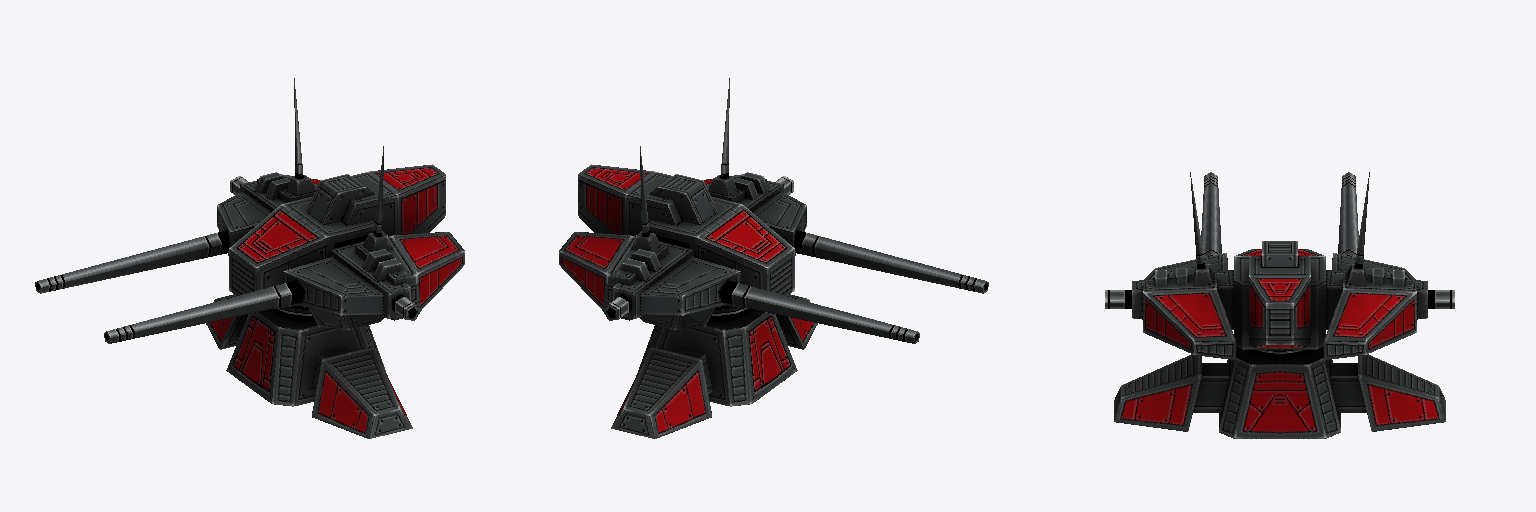
3 renders of one model, left to right at view 1: azimuth 30°, elevation 25°; view 2: azimuth 150°, elevation 25°; view 3: azimuth 270°, elevation 25°, orthographic.
Size of the model in its own units: 68.55 by 46.39 by 56.72.
1 materials, 1 textured.